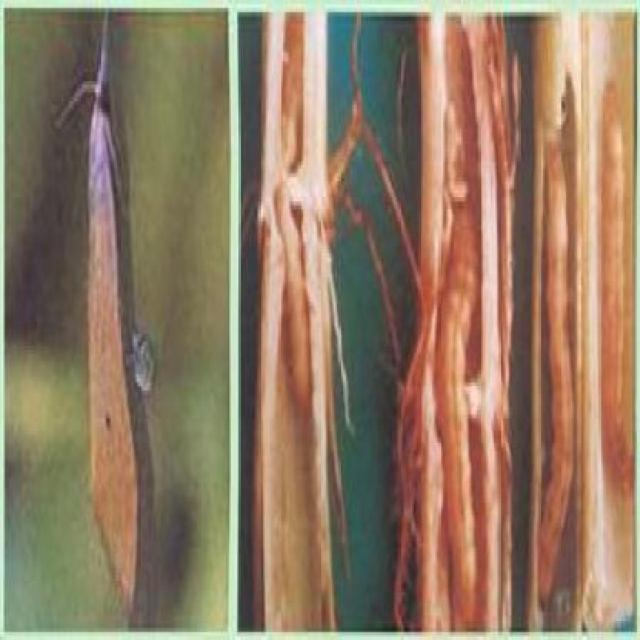stem-borer: (80, 7, 135, 627)
